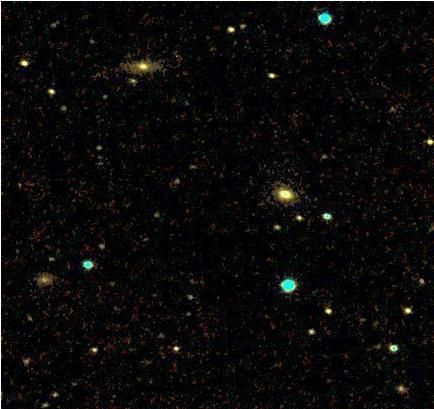star: (229, 15, 259, 45)
